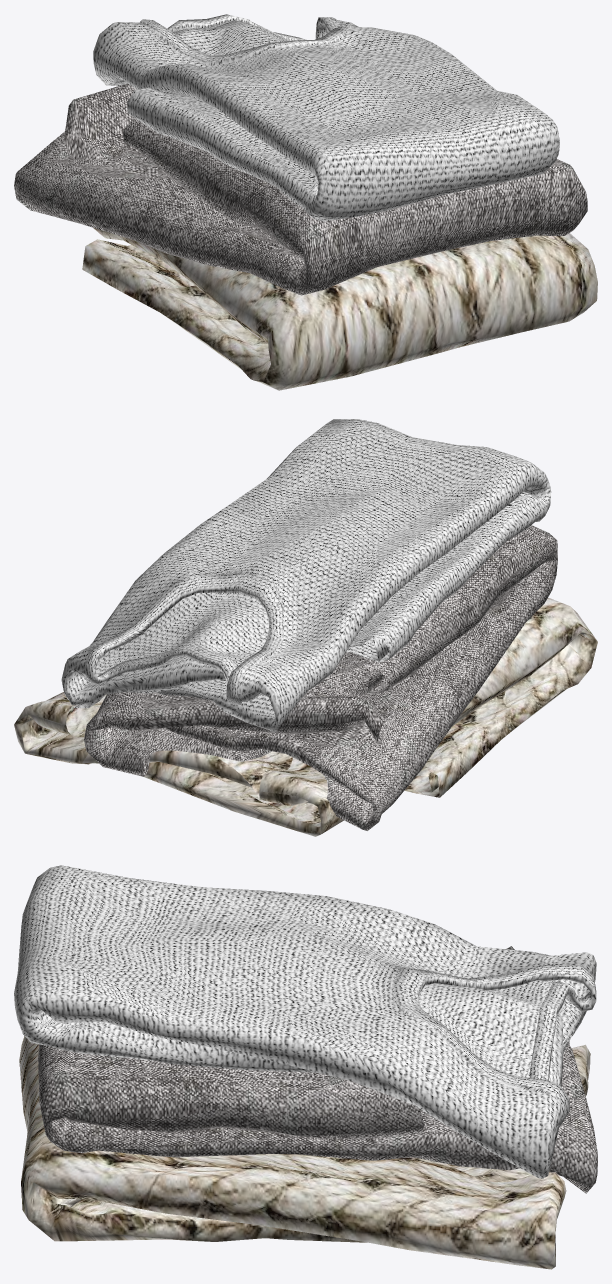
The model's file is shelf-group_folded-items01.glb.
The picture shows the model from 3 angles, top to bottom: view 1: azimuth 30°, elevation 25°; view 2: azimuth 150°, elevation 25°; view 3: azimuth 270°, elevation 25°; orthographic projection. The views are drawn at different scales.
Visible parts, largest first — view 1: cloth020.001, cloth021.001, cloth022.001; view 2: cloth020.001, cloth021.001, cloth022.001; view 3: cloth020.001, cloth022.001, cloth021.001.
Part boxes in pixels (box(x1,y1,x2,y2)): cloth020.001: box(93, 14, 559, 221); cloth021.001: box(14, 83, 587, 295); cloth022.001: box(82, 228, 597, 390); cloth020.001: box(61, 419, 551, 732); cloth021.001: box(84, 525, 557, 830); cloth022.001: box(14, 598, 597, 836); cloth020.001: box(14, 865, 596, 1178); cloth022.001: box(19, 1036, 590, 1269); cloth021.001: box(38, 946, 597, 1193).
Bounding box in the file's own units: 0.3363 × 0.1825 × 0.3972.
Materials: 3 (3 with a texture image).
